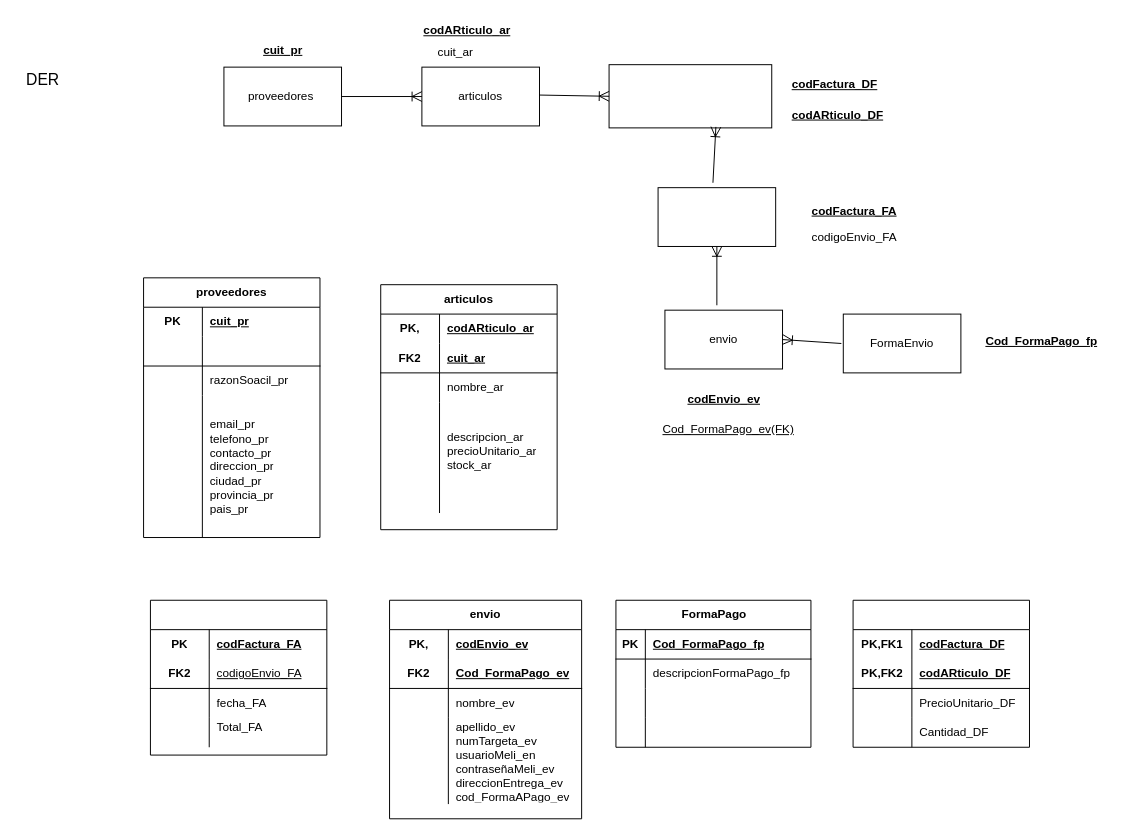
Some shapes in this 1123 by 836 pixel diagram are drawn without their labels. The shapes that lost their labels are listed below. From the top down, each one's box as (x1, y1, x2, y2) in pixels, then its label:
(608, 64, 772, 128): detalleVentas_DetalleFActura
(657, 187, 776, 246): ventas-Facturas
(149, 599, 327, 755): ventas_facturas
(852, 599, 1029, 747): detalleFactura
